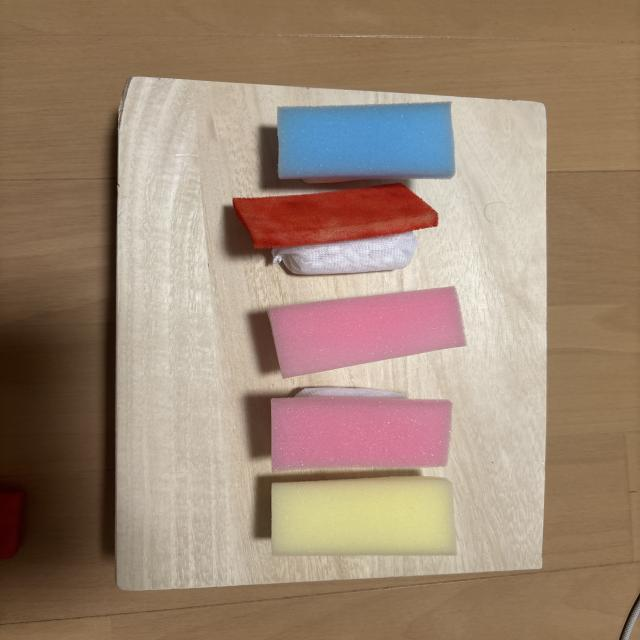NG: (233, 183, 438, 275)
ika: (277, 102, 455, 182)
tai: (268, 287, 466, 378), (271, 387, 452, 471)
tamago: (272, 476, 456, 556)
